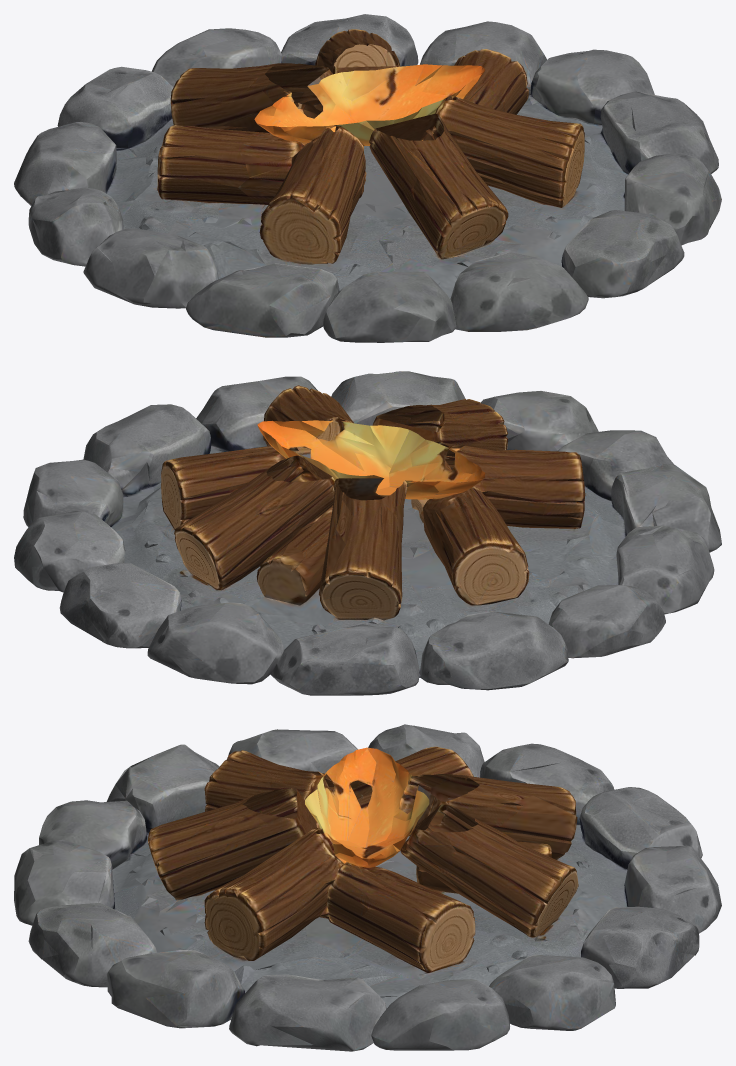
Rendered from Campfire.fbx.
The picture shows the model from 3 angles, top to bottom: view 1: azimuth 30°, elevation 25°; view 2: azimuth 150°, elevation 25°; view 3: azimuth 270°, elevation 25°; orthographic projection.
Visible parts, largest first — view 1: Campfire; view 2: Campfire; view 3: Campfire.
Part boxes in pixels (bbox=[...]): Campfire: bbox=[14, 14, 721, 342]; Campfire: bbox=[14, 371, 721, 695]; Campfire: bbox=[14, 724, 721, 1051].
Size of the model in its own units: 1.5 by 0.2482 by 1.5.
Materials: 1 (1 with a texture image).
